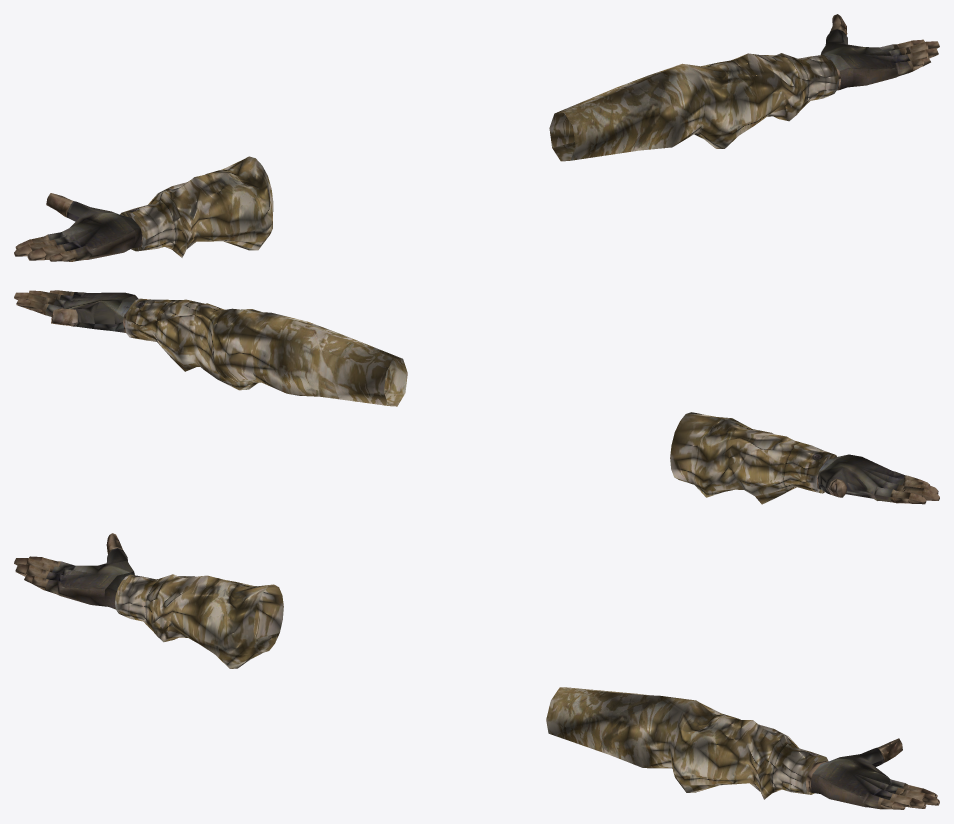
The model's file is ArmsCb.glb.
3 renders of one model, top to bottom at view 1: azimuth 30°, elevation 25°; view 2: azimuth 150°, elevation 25°; view 3: azimuth 330°, elevation 25°, orthographic.
Visible parts, largest first — view 1: _armsCb; view 2: _armsCb; view 3: _armsCb.
Boxes of the visible parts, x1=… form: _armsCb: x1=14, y1=14, x2=939, y2=261; _armsCb: x1=14, y1=290, x2=939, y2=504; _armsCb: x1=14, y1=533, x2=939, y2=809.
Size of the model in its own units: 1.9 by 0.1749 by 0.2103.
2 materials, 2 textured.
